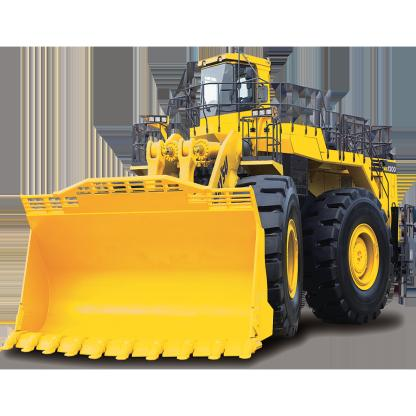bull_dozer/loader/grader: (7, 44, 415, 364)
